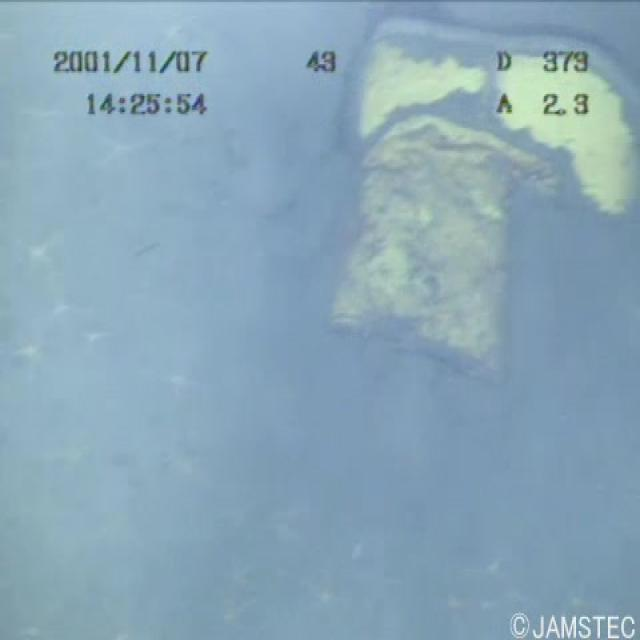plastic: (302, 0, 638, 428)
